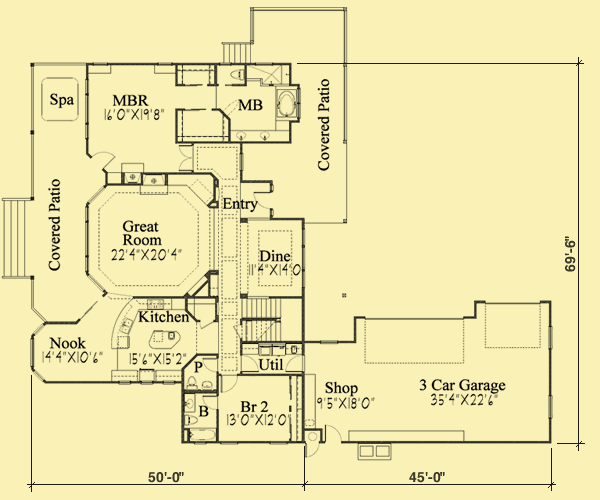bathroom has a tub, small and large sink: (183, 392, 221, 444)
bathroom has small and large sink: (182, 352, 218, 392)
kitchen has a sink, kitchen bar and cookign range: (103, 296, 186, 385)
master bathroom has a tub, shower and dual sinks: (215, 63, 303, 147)
these are stairs to the other floors: (234, 297, 306, 343)
